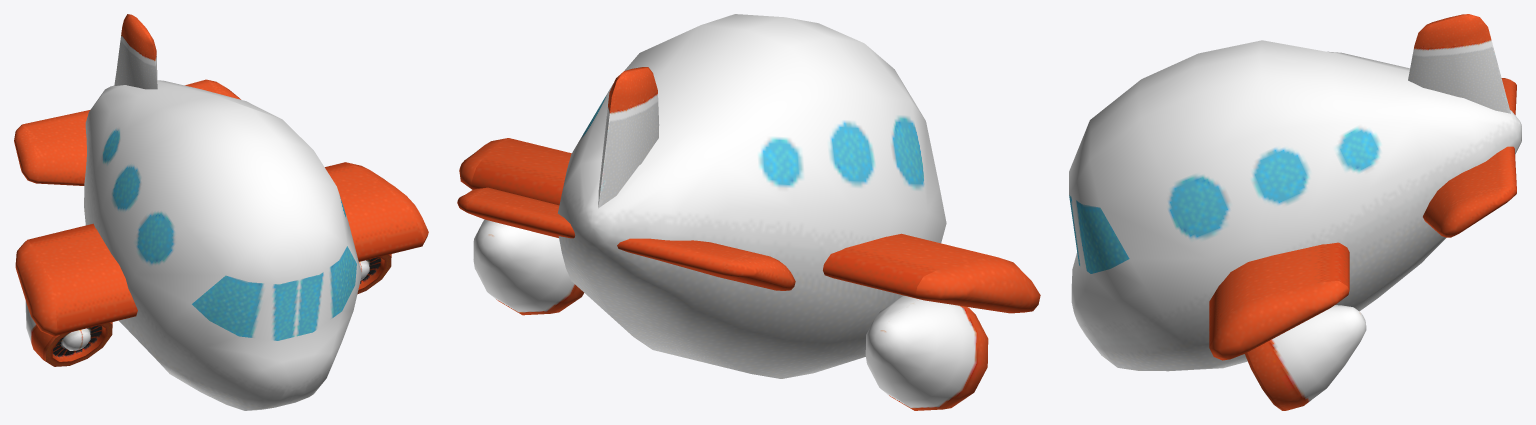
File: AirPlane.gltf
3 views of the same model, side by side, from view 1: azimuth 30°, elevation 25°; view 2: azimuth 150°, elevation 25°; view 3: azimuth 270°, elevation 25° (orthographic). The views are drawn at different scales.
Parts seen in each view (by area): view 1: Airplane; view 2: Airplane; view 3: Airplane.
Boxes of the visible parts, x1,y1,x2,y2 form: Airplane: (14, 14, 428, 410); Airplane: (457, 14, 1040, 410); Airplane: (1069, 14, 1521, 410).
Bounding box in the file's own units: 1.2 × 0.8366 × 1.01.
1 material, 1 textured.
